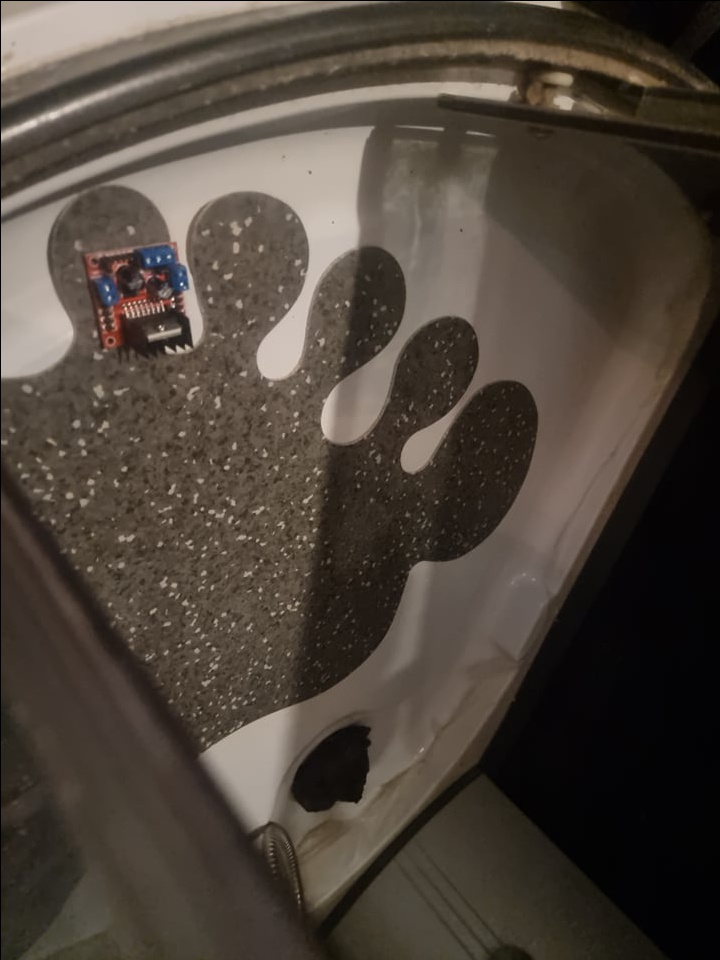MOTOR: (79, 237, 193, 357)
